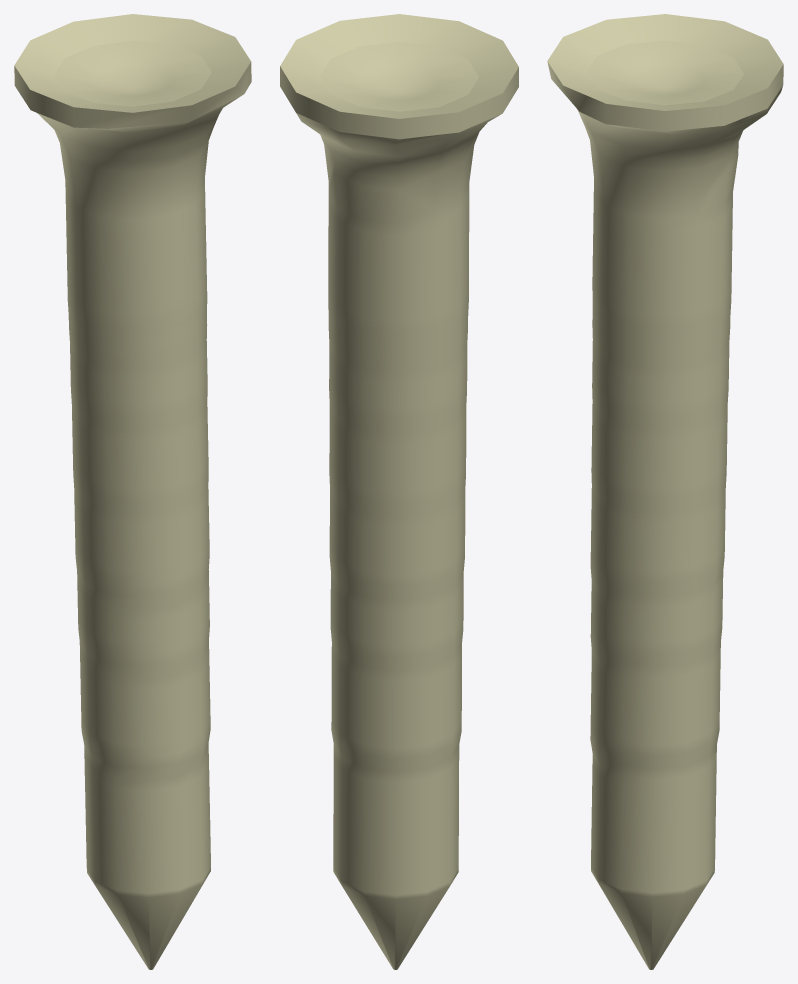
Rendered from tee.fbx.
3 views of the same model, side by side, from view 1: azimuth 30°, elevation 25°; view 2: azimuth 150°, elevation 25°; view 3: azimuth 270°, elevation 25° (orthographic).
Parts seen in each view (by area): view 1: holder, point; view 2: holder, point; view 3: holder, point.
Boxes of the visible parts, box(x1,y1,x2,y2) form: holder: box(14, 14, 251, 887); point: box(86, 861, 210, 969); holder: box(280, 14, 518, 889); point: box(333, 862, 458, 969); holder: box(547, 14, 783, 887); point: box(591, 861, 714, 969).
Size of the model in its own units: 0.0487 by 0.2049 by 0.0486.
